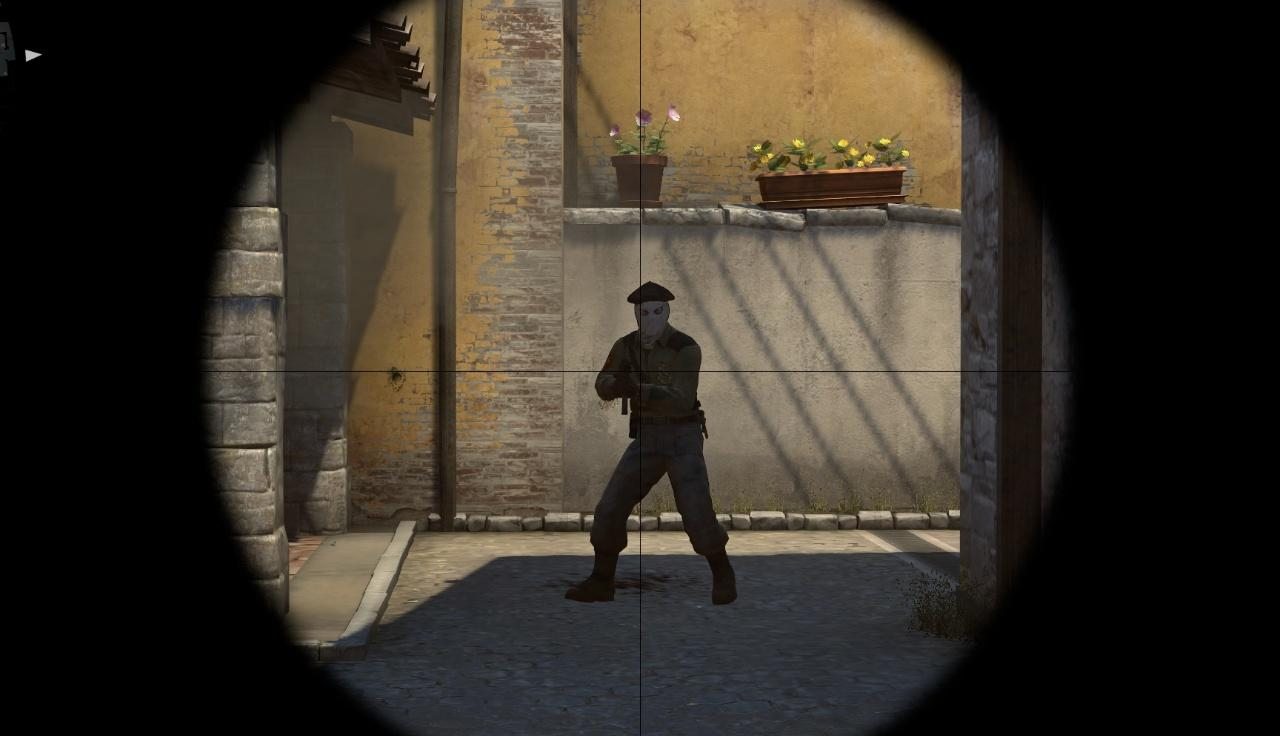tt: (566, 286, 732, 607)
tthead: (630, 280, 676, 352)
